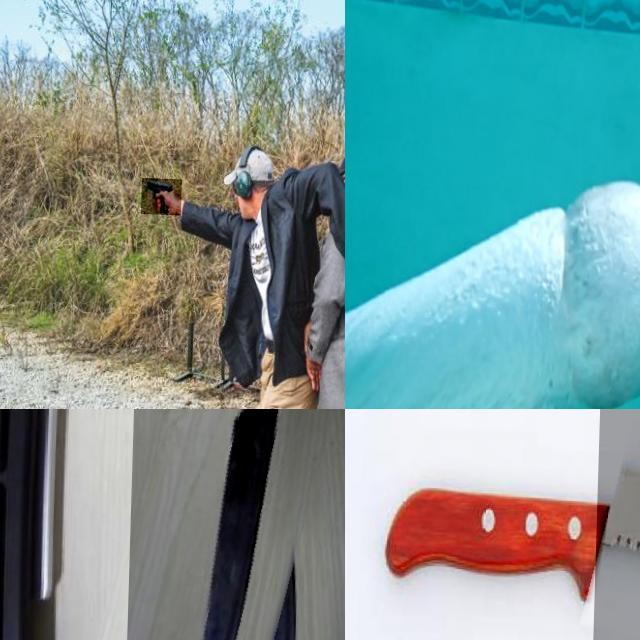-: (130, 409, 345, 640)
gun-knife-thesis - v11 Yolov5 augmented: (142, 176, 184, 214)
